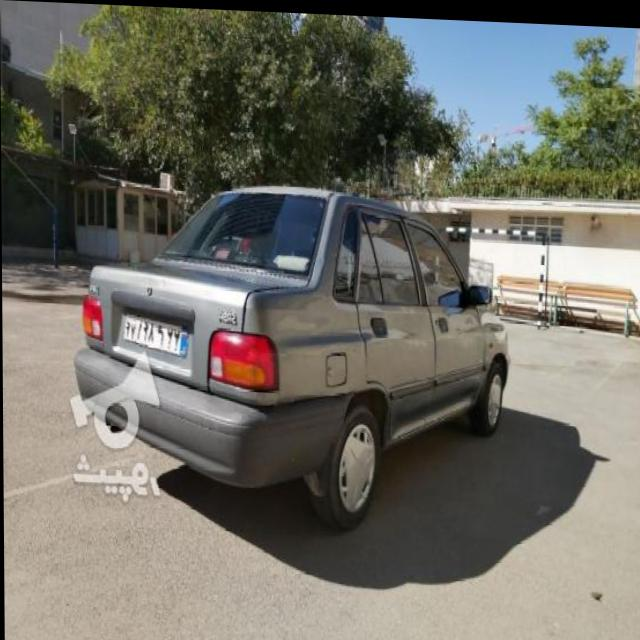licence: (123, 309, 189, 350)
